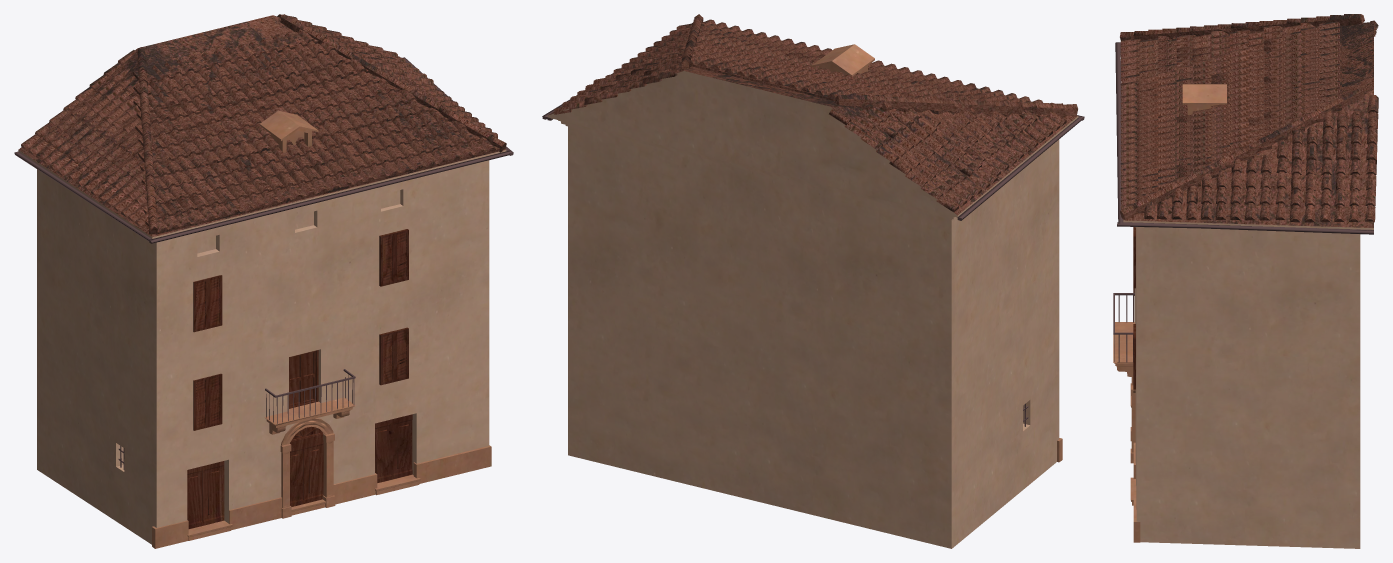
The model's file is sf-twincell.glb.
3 renders of one model, left to right at view 1: azimuth 30°, elevation 25°; view 2: azimuth 150°, elevation 25°; view 3: azimuth 270°, elevation 25°, orthographic. The views are drawn at different scales.
Parts seen in each view (by area): view 1: House; view 2: House; view 3: House.
Part boxes in pixels (x1,y1,x2,y2): House: (14,14,513,548); House: (542,14,1084,548); House: (1113,14,1378,548).
Size of the model in its own units: 10.81 by 10.5 by 6.19.
6 materials, 5 textured.
